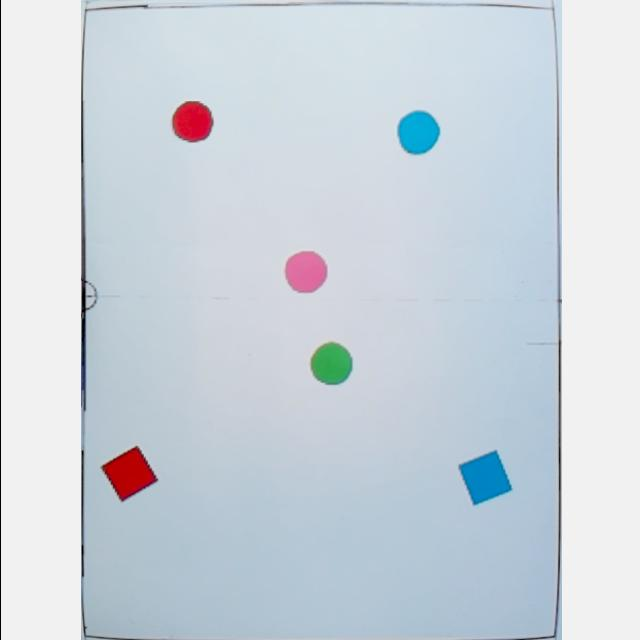blueCircle: (393, 110, 439, 156)
blueSquare: (454, 450, 511, 506)
greenCircle: (306, 342, 352, 386)
pinkCircle: (282, 250, 326, 294)
redCircle: (168, 100, 212, 144)
redSquare: (98, 443, 156, 502)
